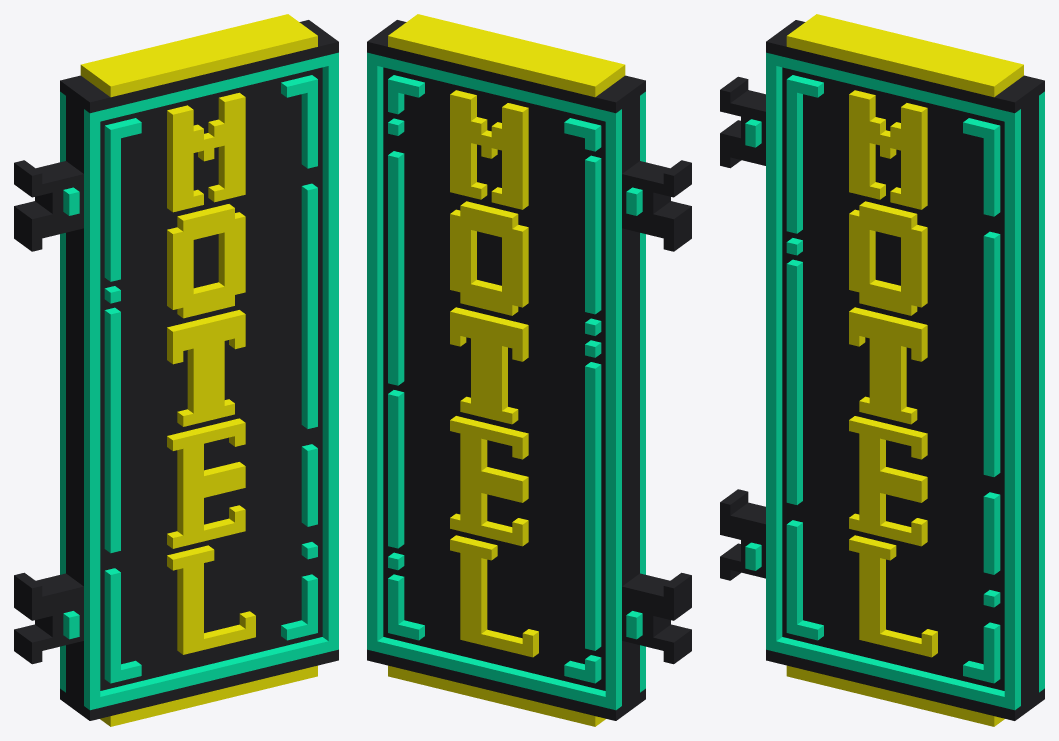
File: Signborad_001.obj
3 renders of one model, left to right at view 1: azimuth 30°, elevation 25°; view 2: azimuth 150°, elevation 25°; view 3: azimuth 330°, elevation 25°, orthographic.
Bounding box in the file's own units: 2.9 × 5.9 × 0.5.
Materials: 1 (1 with a texture image).
